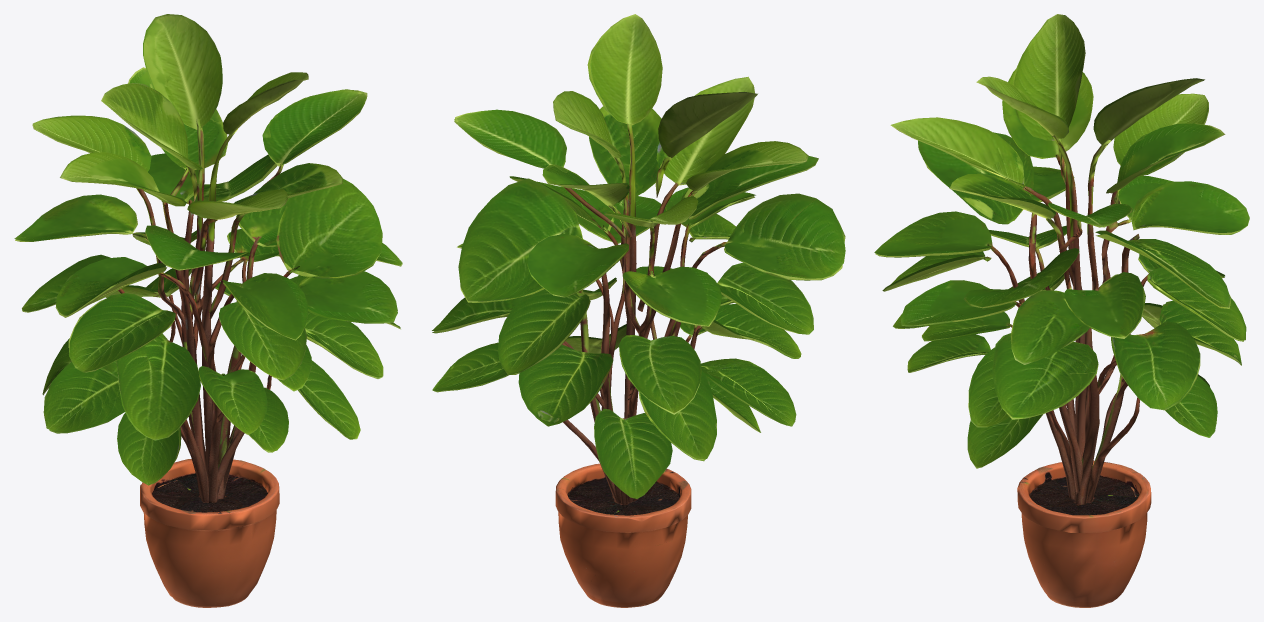
Rendered from PottedPlant.fbx.
3 renders of one model, left to right at view 1: azimuth 30°, elevation 25°; view 2: azimuth 150°, elevation 25°; view 3: azimuth 270°, elevation 25°, orthographic. The views are drawn at different scales.
Visible parts, largest first — view 1: Mesh_0; view 2: Mesh_0; view 3: Mesh_0.
Part boxes in pixels (<box>): Mesh_0: <box>14,14,402,607</box>; Mesh_0: <box>432,14,845,607</box>; Mesh_0: <box>874,14,1249,607</box>.
Size of the model in its own units: 67.47 by 100 by 64.28.
1 material, 1 textured.
